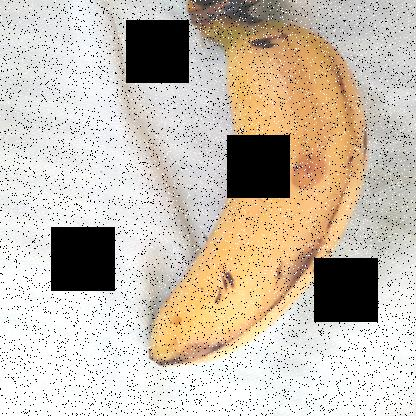ripe: (138, 18, 378, 377)
